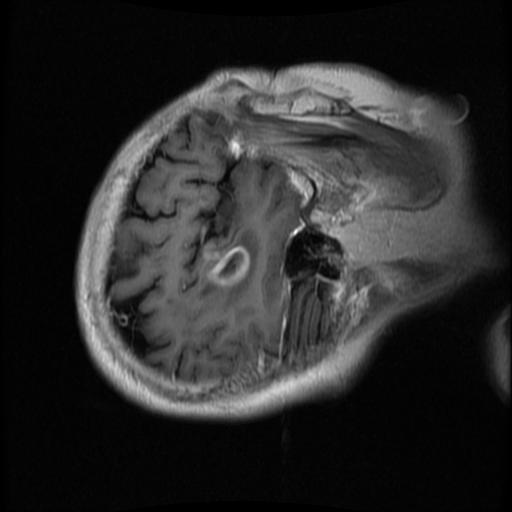glioma: (205, 245, 250, 287)
